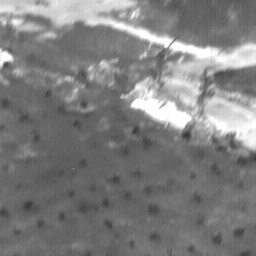aircraft: (166, 44, 168, 46)
